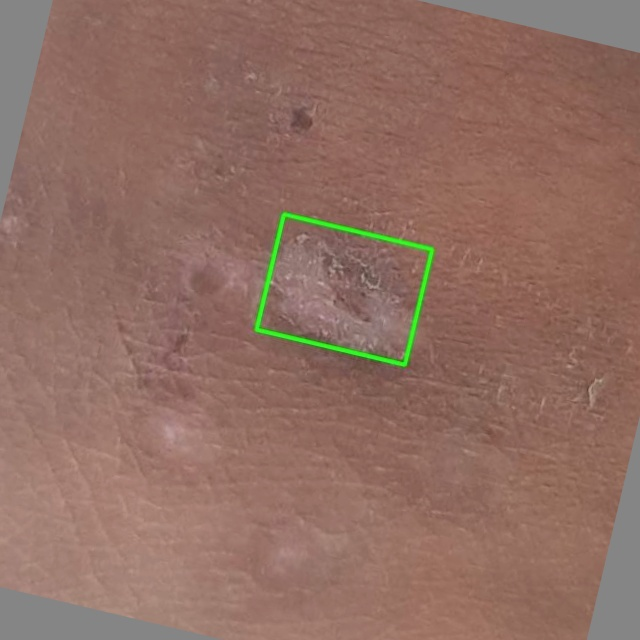Eczema: (256, 214, 432, 364)
